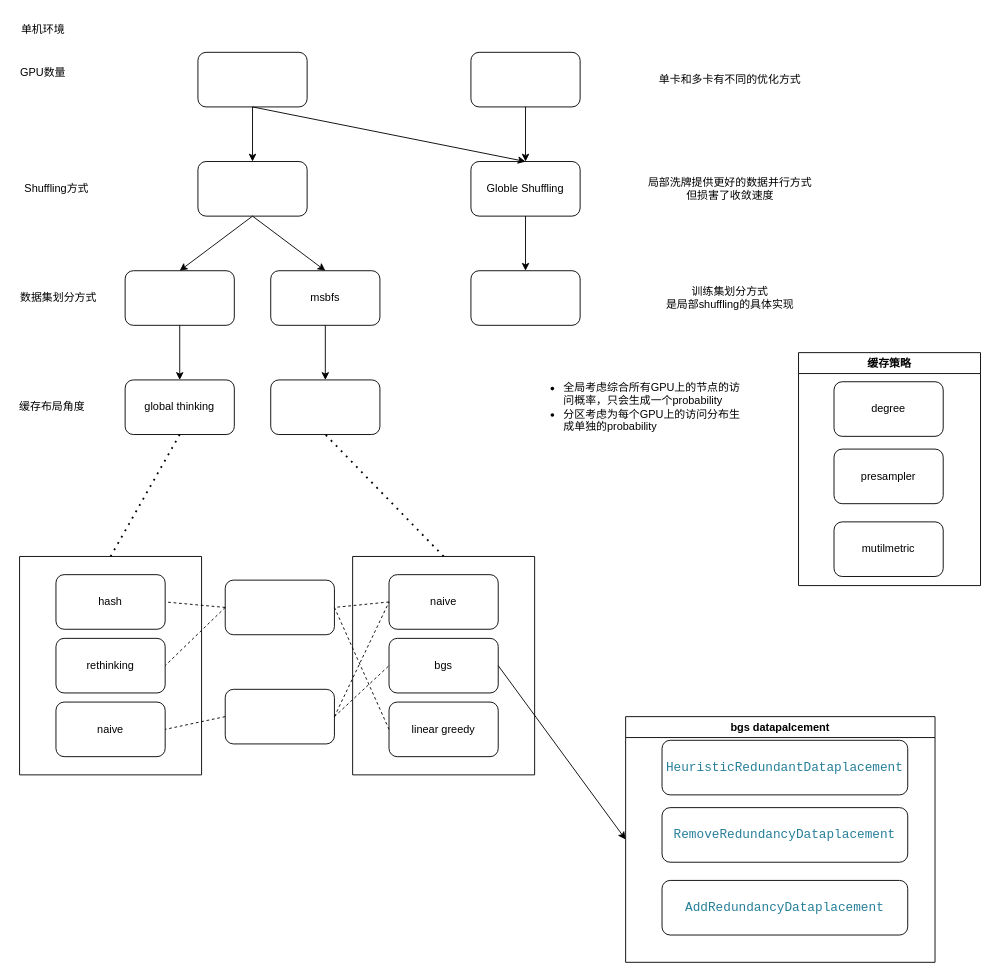
Image size: 996x978. Some labels were removed from this diagram. Each missing label, with the centre of its shape:
Local Shuffling: point 252,188
mutil gpus: point 252,79
naive\random: point 179,297
no: point 525,297
partition thinking: point 325,407
single gpu: point 525,79
with nvlink: point 279,607
without nvlink: point 279,716
